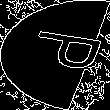P_E: (8, 31, 102, 79)
